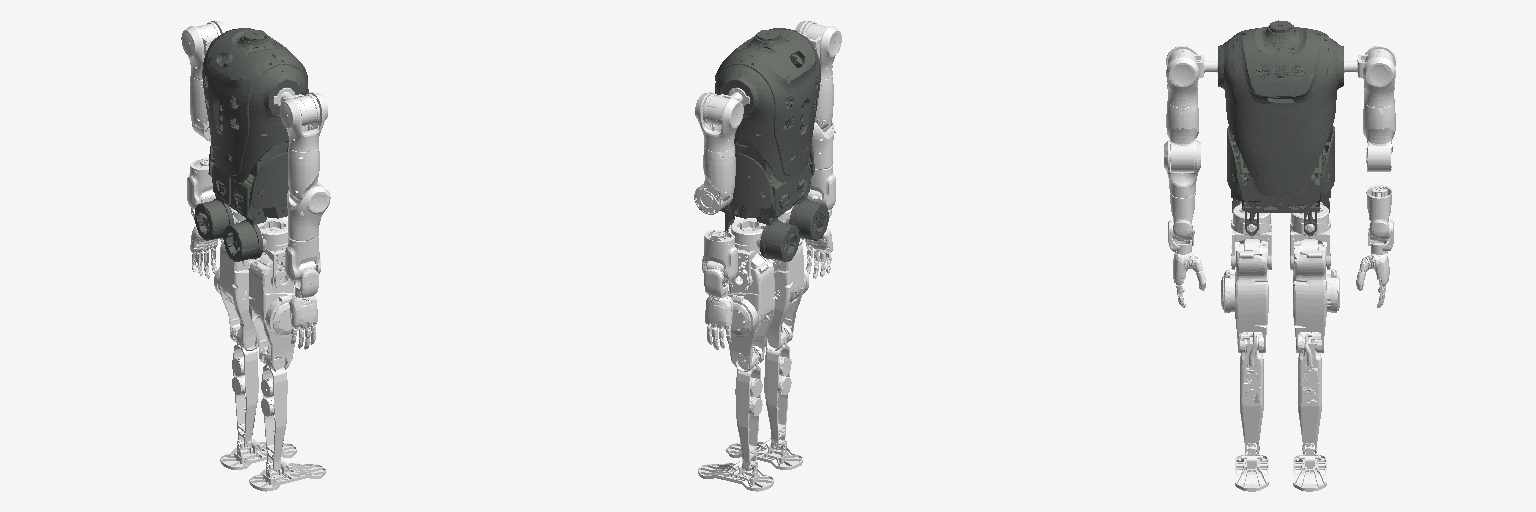
--- What the picture shows (computed from the rendered views, not written in the file) ---
Views: 3 orthographic renders of the robot side by side, from view 1: azimuth 30°, elevation 25°; view 2: azimuth 150°, elevation 25°; view 3: azimuth 270°, elevation 25°.
Model biped_v3_full with 27 links and 26 joints (26 revolute), rooted at torso, posed every joint at zero.
Visible links, largest first — view 1: torso, leg_r3_link, leg_l3_link, leg_l4_link, leg_r4_link, zarm_r7_link, zarm_r4_link, zarm_r2_link, zarm_r3_link, leg_r6_link, leg_l6_link, zarm_r5_link (+7 smaller); view 2: torso, leg_l3_link, leg_r3_link, leg_r4_link, leg_l4_link, zarm_l3_link, zarm_l7_link, zarm_l2_link, leg_l6_link, zarm_l5_link, leg_r6_link, zarm_r2_link (+7 smaller); view 3: torso, leg_l3_link, leg_r3_link, leg_l4_link, leg_r4_link, zarm_l3_link, zarm_r3_link, zarm_l2_link, zarm_r2_link, zarm_r7_link, zarm_l7_link, leg_l6_link (+7 smaller).
Boxes of the visible links, <box> form: torso: <box>194,28,308,261</box>; leg_r3_link: <box>249,253,298,372</box>; leg_l3_link: <box>214,239,258,350</box>; leg_l4_link: <box>232,327,258,449</box>; leg_r4_link: <box>261,346,287,470</box>; zarm_r7_link: <box>289,269,318,349</box>; zarm_r4_link: <box>287,186,330,240</box>; zarm_r2_link: <box>280,92,327,151</box>; zarm_r3_link: <box>288,147,323,204</box>; leg_r6_link: <box>249,459,325,491</box>; leg_l6_link: <box>220,438,296,469</box>; zarm_r5_link: <box>285,236,320,280</box>; torso: <box>715,28,828,261</box>; leg_l3_link: <box>724,253,774,371</box>; leg_r3_link: <box>765,239,808,350</box>; leg_r4_link: <box>764,325,791,449</box>; leg_l4_link: <box>735,346,762,470</box>; zarm_l3_link: <box>694,146,735,214</box>; zarm_l7_link: <box>704,269,733,349</box>; zarm_l2_link: <box>695,92,743,151</box>; leg_l6_link: <box>698,459,773,491</box>; zarm_l5_link: <box>702,230,737,280</box>; leg_r6_link: <box>726,438,802,469</box>; zarm_r2_link: <box>795,21,841,79</box>; torso: <box>1218,20,1343,236</box>; leg_l3_link: <box>1293,239,1339,352</box>; leg_r3_link: <box>1221,239,1268,352</box>; leg_l4_link: <box>1298,332,1321,453</box>; leg_r4_link: <box>1240,332,1263,453</box>; zarm_l3_link: <box>1363,102,1395,171</box>; zarm_r3_link: <box>1166,102,1198,171</box>; zarm_l2_link: <box>1363,46,1395,107</box>; zarm_r2_link: <box>1166,46,1198,107</box>; zarm_r7_link: <box>1168,220,1205,307</box>; zarm_l7_link: <box>1356,220,1393,307</box>; leg_l6_link: <box>1293,443,1326,491</box>.
Size in the robot's own frame: 0.3146 by 0.6896 by 1.44 metres.
Meshes: 27 distinct files referenced, 26 mesh visuals loaded (26 binary STL); not drawn: 1 (reference not matched to a file when rendering).

robot.urdf — biped_v3_full:
<?xml version="1.0" ?>
<!-- =================================================================================== -->
<!-- |    This document was autogenerated by xacro from [local-path]/workspace/kuavo-ros-control/src/humanoid-control/humanoid_interface_drake/models/biped_gen4.2/urdf/biped_v3_full.xacro | -->
<!-- |    EDITING THIS FILE BY HAND IS NOT RECOMMENDED                                 | -->
<!-- =================================================================================== -->
<robot name="biped_v3_full" xmlns:drake="https://drake.mit.edu">
  <link name="torso">
    <inertial>
      <origin xyz="-0.0185005 0.00031952 0.1929569" rpy="0 0 0" />
      <mass value="26.93033803" />
      <inertia ixx="0.93103133" ixy="0.00011763" ixz="-0.07210993" iyy="0.82590532" iyz="6.88e-06" izz="0.27686612" />
    </inertial>
    <visual>
      <origin rpy="0 0 0" xyz="0 0 0"/>
      <geometry>
        <mesh filename="../../meshes/torso.STL"/>
      </geometry>
      <material name="">
        <color rgba="0.43137 0.45098 0.43137 1"/>
      </material>
    </visual>
    <!-- <collision>
      <origin xyz="0 0 0" rpy="0 0 0" />
      <geometry>
        <mesh filename="../../meshes/torso.STL" />
      </geometry>
    </collision> -->
  </link>
  <link name="leg_l1_link">
    <inertial>
      <origin xyz="-0.00430148 -2.708e-05 -0.00851195" rpy="0 0 0" />
      <mass value="1.71093115" />
      <inertia ixx="0.00206092" ixy="1.97e-06" ixz="6.944e-05" iyy="0.00277274" iyz="-5.1e-06" izz="0.00370826" />
    </inertial>
    <visual>
      <origin xyz="0 0 0" rpy="0 0 0" />
      <geometry>
        <mesh filename="../../meshes/l_leg_roll.STL" />
      </geometry>
      <material name="">
        <color rgba="1 1 1 1" />
      </material>
    </visual>
  </link>
  <joint name="leg_l1_joint" type="revolute">
    <origin xyz="-0.0024999 0.087 -0.066" rpy="0 0 0" />
    <parent link="torso" />
    <child link="leg_l1_link" />
    <axis xyz="1 0 0" />
    <limit lower="-0.314159265358979" upper="0.663225115757845" effort="180.0" velocity="23.55" />
  </joint>
  <transmission type="SimpleTransmission">
    <joint name="leg_l1_joint" />
    <actuator name="leg_l1_joint_motor" />
  </transmission>
  <link name="leg_l2_link">
    <inertial>
      <origin xyz="0.0 -0.00231118 -0.09062539" rpy="0 0 0" />
      <mass value="0.58029165" />
      <inertia ixx="0.00223984" ixy="0.0" ixz="3e-08" iyy="0.00123175" iyz="-6.98e-06" izz="0.00146391" />
    </inertial>
    <visual>
      <origin xyz="0 0 0" rpy="0 0 0" />
      <geometry>
        <mesh filename="../../meshes/l_leg_yaw.STL" />
      </geometry>
      <material name="">
        <color rgba="1 1 1 1" />
      </material>
    </visual>
  </link>
  <joint name="leg_l2_joint" type="revolute">
    <origin xyz="0 0 0" rpy="0 0 0" />
    <parent link="leg_l1_link" />
    <child link="leg_l2_link" />
    <axis xyz="0 0 1" />
    <limit lower="-0.872664625997165" upper="0.785398163397448" effort="100.0" velocity="41.3433333333333" />
  </joint>
  <transmission type="SimpleTransmission">
    <joint name="leg_l2_joint" />
    <actuator name="leg_l2_joint_motor" />
  </transmission>
  <link name="leg_l3_link">
    <inertial>
      <origin xyz="0.00150537 0.01199614 -0.08411619" rpy="0 0 0" />
      <mass value="4.50393141" />
      <inertia ixx="0.0389365" ixy="7.866e-05" ixz="0.00102086" iyy="0.03942609" iyz="0.00219138" izz="0.00999961" />
    </inertial>
    <visual>
      <origin xyz="0 0 0" rpy="0 0 0" />
      <geometry>
        <mesh filename="../../meshes/l_leg_pitch.STL" />
      </geometry>
      <material name="">
        <color rgba="1 1 1 1" />
      </material>
    </visual>
  </link>
  <joint name="leg_l3_joint" type="revolute">
    <origin xyz="0.000500354536093913 -0.00100000000000011 -0.1287" rpy="0 0 0" />
    <parent link="leg_l2_link" />
    <child link="leg_l3_link" />
    <axis xyz="0 1 0" />
    <limit lower="-2.00712863979348" upper="1.5707963267949" effort="100.0" velocity="41.3433333333333" />
  </joint>
  <transmission type="SimpleTransmission">
    <joint name="leg_l3_joint" />
    <actuator name="leg_l3_joint_motor" />
  </transmission>
  <link name="leg_l4_link">
    <inertial>
      <origin xyz="0.00696242 5.314e-05 -0.11549851" rpy="0 0 0" />
      <mass value="1.62776815" />
      <inertia ixx="0.01243912" ixy="-2.29e-06" ixz="5.881e-05" iyy="0.01229563" iyz="-2.895e-05" izz="0.00097937" />
    </inertial>
    <visual>
      <origin xyz="0 0 0" rpy="0 0 0" />
      <geometry>
        <mesh filename="../../meshes/l_knee.STL" />
      </geometry>
      <material name="">
        <color rgba="1 1 1 1" />
      </material>
    </visual>
  </link>
  <joint name="leg_l4_joint" type="revolute">
    <origin xyz="-6.87185435835039E-05 0 -0.284" rpy="0 0 0" />
    <parent link="leg_l3_link" />
    <child link="leg_l4_link" />
    <axis xyz="0 1 0" />
    <limit lower="0.0" upper="2.53072741539178" effort="180.0" velocity="23.55" />
  </joint>
  <transmission type="SimpleTransmission">
    <joint name="leg_l4_joint" />
    <actuator name="leg_l4_joint_motor" />
  </transmission>
  <link name="leg_l5_link">
    <inertial>
      <origin xyz="0.0 0.0 0.0" rpy="0 0 0" />
      <mass value="0.07193524" />
      <inertia ixx="6.92e-06" ixy="0.0" ixz="0.0" iyy="6.92e-06" iyz="0.0" izz="1.218e-05" />
    </inertial>
    <visual>
      <origin xyz="0 0 0" rpy="0 0 0" />
      <geometry>
        <mesh filename="../../meshes/l_foot_pitch.STL" />
      </geometry>
      <material name="">
        <color rgba="1 1 1 1" />
      </material>
    </visual>
  </link>
  <joint name="leg_l5_joint" type="revolute">
    <origin xyz="-0.000431635992531742 0 -0.346000000000001" rpy="0 0 0" />
    <parent link="leg_l4_link" />
    <child link="leg_l5_link" />
    <axis xyz="0 1 0" />
    <limit lower="-0.872664625997165" upper="0.349065850398866" effort="36.0" velocity="23.0266666666667" />
  </joint>
  <transmission type="SimpleTransmission">
    <joint name="leg_l5_joint" />
    <actuator name="leg_l5_joint_motor" />
  </transmission>
  <link name="leg_l6_link">
    <inertial>
      <origin xyz="0.03732754 -2.22e-06 -0.03883977" rpy="0 0 0" />
      <mass value="0.49861272" />
      <inertia ixx="0.00039242" ixy="3e-08" ixz="4.664e-05" iyy="0.00158655" iyz="0.0" izz="0.00172576" />
    </inertial>
    <visual>
      <origin xyz="0 0 0" rpy="0 0 0" />
      <geometry>
        <mesh filename="../../meshes/l_foot_roll.STL" />
      </geometry>
      <material name="">
        <color rgba="1 1 1 1" />
      </material>
    </visual>
  </link>
  <joint name="leg_l6_joint" type="revolute">
    <origin xyz="0 0 0" rpy="0 0 0" />
    <parent link="leg_l5_link" />
    <child link="leg_l6_link" />
    <axis xyz="1 0 0" />
    <limit lower="-0.261799387799149" upper="0.261799387799149" effort="36.0" velocity="23.0266666666667" />
  </joint>
  <transmission type="SimpleTransmission">
    <joint name="leg_l6_joint" />
    <actuator name="leg_l6_joint_motor" />
  </transmission>
  <!-- sssssssss -->
  <frame link="leg_l6_link" name="l_foot_sole" xyz="0.048838 0.0 -0.0593"/>
  <frame link="leg_l6_link" name="l_foot_toe" xyz="0.17084 0.0 -0.0593"/>
  <frame link="leg_l6_link" name="l_foot_heel" xyz="-0.073164 0.0 -0.0593"/>
  <link name="leg_r1_link">
    <inertial>
      <origin xyz="-0.00430146 2.709e-05 -0.00851195" rpy="0 0 0" />
      <mass value="1.71093008" />
      <inertia ixx="0.00206092" ixy="-1.97e-06" ixz="6.944e-05" iyy="0.00277274" iyz="5.1e-06" izz="0.00370826" />
    </inertial>
    <visual>
      <origin xyz="0 0 0" rpy="0 0 0" />
      <geometry>
        <mesh filename="../../meshes/r_leg_roll.STL" />
      </geometry>
      <material name="">
        <color rgba="1 1 1 1" />
      </material>
    </visual>
  </link>
  <joint name="leg_r1_joint" type="revolute">
    <origin xyz="-0.0024999 -0.087 -0.066" rpy="0 0 0" />
    <parent link="torso" />
    <child link="leg_r1_link" />
    <axis xyz="1 0 0" />
    <limit lower="-0.663225115757845" upper="0.314159265358979" effort="180.0" velocity="23.55" />
  </joint>
  <transmission type="SimpleTransmission">
    <joint name="leg_r1_joint" />
    <actuator name="leg_r1_joint_motor" />
  </transmission>
  <link name="leg_r2_link">
    <inertial>
      <origin xyz="0.0 0.00231118 -0.09062539" rpy="0 0 0" />
      <mass value="0.58029165" />
      <inertia ixx="0.00223984" ixy="0.0" ixz="-3e-08" iyy="0.00123175" iyz="6.98e-06" izz="0.00146391" />
    </inertial>
    <visual>
      <origin xyz="0 0 0" rpy="0 0 0" />
      <geometry>
        <mesh filename="../../meshes/r_leg_yaw.STL" />
      </geometry>
      <material name="">
        <color rgba="1 1 1 1" />
      </material>
    </visual>
  </link>
  <joint name="leg_r2_joint" type="revolute">
    <origin xyz="0 0 0" rpy="0 0 0" />
    <parent link="leg_r1_link" />
    <child link="leg_r2_link" />
    <axis xyz="0 0 1" />
    <limit lower="-0.785398163397448" upper="0.872664625997165" effort="100.0" velocity="41.3433333333333" />
  </joint>
  <transmission type="SimpleTransmission">
    <joint name="leg_r2_joint" />
    <actuator name="leg_r2_joint_motor" />
  </transmission>
  <link name="leg_r3_link">
    <inertial>
      <origin xyz="0.00208315 -0.01199644 -0.08411379" rpy="0 0 0" />
      <mass value="4.50385993" />
      <inertia ixx="0.03893478" ixy="-7.792e-05" ixz="0.00103064" iyy="0.03942522" iyz="-0.00219154" izz="0.01000016" />
    </inertial>
    <visual>
      <origin xyz="0 0 0" rpy="0 0 0" />
      <geometry>
        <mesh filename="../../meshes/r_leg_pitch.STL" />
      </geometry>
      <material name="">
        <color rgba="1 1 1 1" />
      </material>
    </visual>
  </link>
  <joint name="leg_r3_joint" type="revolute">
    <origin xyz="-4.88006581312577E-05 0 -0.1287" rpy="0 0 0" />
    <parent link="leg_r2_link" />
    <child link="leg_r3_link" />
    <axis xyz="0 1 0" />
    <limit lower="-2.00712863979348" upper="1.5707963267949" effort="100.0" velocity="41.3433333333333" />
  </joint>
  <transmission type="SimpleTransmission">
    <joint name="leg_r3_joint" />
    <actuator name="leg_r3_joint_motor" />
  </transmission>
  <link name="leg_r4_link">
    <inertial>
      <origin xyz="0.00743231 -5.343e-05 -0.11558701" rpy="0 0 0" />
      <mass value="1.62655699" />
      <inertia ixx="0.01241258" ixy="2.28e-06" ixz="6.289e-05" iyy="0.0122692" iyz="2.902e-05" izz="0.00097927" />
    </inertial>
    <visual>
      <origin xyz="0 0 0" rpy="0 0 0" />
      <geometry>
        <mesh filename="../../meshes/r_knee.STL" />
      </geometry>
      <material name="">
        <color rgba="1 1 1 1" />
      </material>
    </visual>
  </link>
  <joint name="leg_r4_joint" type="revolute">
    <origin xyz="0.000147138572785148 0 -0.283999982974744" rpy="0 0 0" />
    <parent link="leg_r3_link" />
    <child link="leg_r4_link" />
    <axis xyz="0 1 0" />
    <limit lower="0.0" upper="2.53072741539178" effort="180.0" velocity="23.55" />
  </joint>
  <transmission type="SimpleTransmission">
    <joint name="leg_r4_joint" />
    <actuator name="leg_r4_joint_motor" />
  </transmission>
  <link name="leg_r5_link">
    <inertial>
      <origin xyz="0.0 0.0 0.0" rpy="0 0 0" />
      <mass value="0.07193524" />
      <inertia ixx="6.92e-06" ixy="0.0" ixz="0.0" iyy="6.92e-06" iyz="0.0" izz="1.218e-05" />
    </inertial>
    <visual>
      <origin xyz="0 0 0" rpy="0 0 0" />
      <geometry>
        <mesh filename="../../meshes/r_foot_pitch.STL" />
      </geometry>
      <material name="">
        <color rgba="1 1 1 1" />
      </material>
    </visual>
  </link>
  <joint name="leg_r5_joint" type="revolute">
    <origin xyz="0.000119806050928577 0 -0.345999979257963" rpy="0 0 0" />
    <parent link="leg_r4_link" />
    <child link="leg_r5_link" />
    <axis xyz="0 1 0" />
    <limit lower="-0.872664625997165" upper="0.349065850398866" effort="36.0" velocity="23.0266666666667" />
  </joint>
  <transmission type="SimpleTransmission">
    <joint name="leg_r5_joint" />
    <actuator name="leg_r5_joint_motor" />
  </transmission>
  <link name="leg_r6_link">
    <inertial>
      <origin xyz="0.03734098 -2.22e-06 -0.03882684" rpy="0 0 0" />
      <mass value="0.49861272" />
      <inertia ixx="0.00039238" ixy="3e-08" ixz="4.618e-05" iyy="0.00158655" iyz="0.0" izz="0.00172579" />
    </inertial>
    <visual>
      <origin xyz="0 0 0" rpy="0 0 0" />
      <geometry>
        <mesh filename="../../meshes/r_foot_roll.STL" />
      </geometry>
      <material name="">
        <color rgba="1 1 1 1" />
      </material>
    </visual>
  </link>
  <joint name="leg_r6_joint" type="revolute">
    <origin xyz="0 0 0" rpy="0 0 0" />
    <parent link="leg_r5_link" />
    <child link="leg_r6_link" />
    <axis xyz="1 0 0" />
    <limit lower="-0.261799387799149" upper="0.261799387799149" effort="36.0" velocity="23.0266666666667" />
  </joint>
  <transmission type="SimpleTransmission">
    <joint name="leg_r6_joint" />
    <actuator name="leg_r6_joint_motor" />
  </transmission>
  <!-- sssssssss -->
  <frame link="leg_r6_link" name="r_foot_sole" xyz="0.048838 0.0 -0.0593"/>
  <frame link="leg_r6_link" name="r_foot_toe" xyz="0.17084 0.0 -0.0593"/>
  <frame link="leg_r6_link" name="r_foot_heel" xyz="-0.073164 0.0 -0.0593"/>
  <!-- =========================================================== Arms ================================================================= -->
  <link name="zarm_l1_link">
    <inertial>
      <origin xyz="-0.00083 -0.02218 0.00035" rpy="0 0 0" />
      <mass value="0.962" />
      <inertia ixx="0.00225" ixy="-3e-05" ixz="0.0" iyy="0.00099" iyz="-2e-05" izz="0.00227" />
    </inertial>
    <visual>
      <origin xyz="0 0 0" rpy="0 0 0" />
      <geometry>
        <mesh filename="../../meshes/l_arm_pitch.STL" />
      </geometry>
      <material name="">
        <color rgba="1 1 1 1" />
      </material>
    </visual>
  </link>
  <joint name="zarm_l1_joint" type="revolute">
    <origin xyz="-0.017499853 0.29269999999999996 0.4245" rpy="0 0 0" />
    <parent link="torso" />
    <child link="zarm_l1_link" />
    <axis xyz="0 1 0" />
    <limit lower="-3.14159265358979" upper="1.5707963267949" effort="100.0" velocity="41.3433333333333" />
  </joint>
  <transmission type="SimpleTransmission">
    <joint name="zarm_l1_joint" />
    <actuator name="zarm_l1_joint_motor" />
  </transmission>
  <link name="zarm_l2_link">
    <inertial>
      <origin xyz="-0.00791 0.0 -0.04655" rpy="0 0 0" />
      <mass value="0.57" />
      <inertia ixx="0.00163" ixy="0.0" ixz="5e-05" iyy="0.00211" iyz="0.0" izz="0.00122" />
    </inertial>
    <visual>
      <origin xyz="0 0 0" rpy="0 0 0" />
      <geometry>
        <mesh filename="../../meshes/l_arm_roll.STL" />
      </geometry>
      <material name="">
        <color rgba="1 1 1 1" />
      </material>
    </visual>
  </link>
  <joint name="zarm_l2_joint" type="revolute">
    <origin xyz="0 0 0" rpy="0 0 0" />
    <parent link="zarm_l1_link" />
    <child link="zarm_l2_link" />
    <axis xyz="1 0 0" />
    <limit lower="-0.349065850398866" upper="2.0943951023932" effort="50.0" velocity="19.154" />
  </joint>
  <transmission type="SimpleTransmission">
    <joint name="zarm_l2_joint" />
    <actuator name="zarm_l2_joint_motor" />
  </transmission>
  <link name="zarm_l3_link">
    <inertial>
      <origin xyz="0.00628 0.00107 -0.20878" rpy="0 0 0" />
      <mass value="1.65" />
      <inertia ixx="0.00815" ixy="-4e-05" ixz="0.00085" iyy="0.00828" iyz="0.00014" izz="0.00206" />
    </inertial>
    <visual>
      <origin xyz="0 0 0" rpy="0 0 0" />
      <geometry>
        <mesh filename="../../meshes/l_arm_yaw.STL" />
      </geometry>
      <material name="">
        <color rgba="1 1 1 1" />
      </material>
    </visual>
  </link>
  <joint name="zarm_l3_joint" type="revolute">
    <origin xyz="0 0 0" rpy="0 0 0" />
    <parent link="zarm_l2_link" />
    <child link="zarm_l3_link" />
    <axis xyz="0 0 1" />
    <limit lower="-1.5707963267949" upper="1.5707963267949" effort="39.0" velocity="18.84" />
  </joint>
  <transmission type="SimpleTransmission">
    <joint name="zarm_l3_joint" />
    <actuator name="zarm_l3_joint_motor" />
  </transmission>
  <link name="zarm_l4_link">
    <inertial>
      <origin xyz="-0.01611 0.00143 -0.04857" rpy="0 0 0" />
      <mass value="0.429" />
      <inertia ixx="0.00135" ixy="0.0" ixz="-0.0001" iyy="0.00114" iyz="0.0" izz="0.00083" />
    </inertial>
    <visual>
      <origin xyz="0 0 0" rpy="0 0 0" />
      <geometry>
        <mesh filename="../../meshes/l_forearm.STL" />
      </geometry>
      <material name="">
        <color rgba="1 1 1 1" />
      </material>
    </visual>
  </link>
  <joint name="zarm_l4_joint" type="revolute">
    <origin xyz="0.0200000000000006 0 -0.283699999999996" rpy="0 0 0" />
    <parent link="zarm_l3_link" />
    <child link="zarm_l4_link" />
    <axis xyz="0 1 0" />
    <limit lower="-2.61799387799149" upper="0.0" effort="50.0" velocity="18.84" />
  </joint>
  <transmission type="SimpleTransmission">
    <joint name="zarm_l4_joint" />
    <actuator name="zarm_l4_joint_motor" />
  </transmission>
  <link name="zarm_l5_link">
    <inertial>
      <origin xyz="-0.00207 0.00018 -0.05079" rpy="0 0 0" />
      <mass value="0.61" />
      <inertia ixx="0.00107" ixy="0.0" ixz="-4e-05" iyy="0.00146" iyz="0.0" izz="0.00083" />
    </inertial>
    <visual>
      <origin xyz="0 0 0" rpy="0 0 0" />
      <geometry>
        <mesh filename="../../meshes/l_hand_yaw.STL" />
      </geometry>
      <material name="">
        <color rgba="1 1 1 1" />
      </material>
    </visual>
  </link>
  <joint name="zarm_l5_joint" type="revolute">
    <origin xyz="-0.0200000000000025 0 -0.127037274261591" rpy="0 0 0" />
    <parent link="zarm_l4_link" />
    <child link="zarm_l5_link" />
    <axis xyz="0 0 1" />
    <limit lower="-1.5707963267949" upper="1.5707963267949" effort="12.0" velocity="21.666" />
  </joint>
  <transmission type="SimpleTransmission">
    <joint name="zarm_l5_joint" />
    <actuator name="zarm_l5_joint_motor" />
  </transmission>
  <link name="zarm_l6_link">
    <inertial>
      <origin xyz="-0.00111 0.00335 -0.01335" rpy="0 0 0" />
      <mass value="0.331" />
      <inertia ixx="0.00022" ixy="0.0" ixz="0.0" iyy="0.00027" iyz="0.0" izz="0.00028" />
    </inertial>
    <visual>
      <origin xyz="0 0 0" rpy="0 0 0" />
      <geometry>
        <mesh filename="../../meshes/l_hand_roll.STL" />
      </geometry>
      <material name="">
        <color rgba="1 1 1 1" />
      </material>
    </visual>
  </link>
  <joint name="zarm_l6_joint" type="revolute">
    <origin xyz="0.000199999999999079 0 -0.106462725738415" rpy="0 0 0" />
    <parent link="zarm_l5_link" />
    <child link="zarm_l6_link" />
    <axis xyz="1 0 0" />
    <limit lower="-1.30899693899575" upper="0.698131700797732" effort="12.0" velocity="21.666" />
  </joint>
  <transmission type="SimpleTransmission">
    <joint name="zarm_l6_joint" />
    <actuator name="zarm_l6_joint_motor" />
  </transmission>
  <link name="zarm_l7_link">
    <inertial>
      <origin xyz="0.00186 0.01014 -0.09044" rpy="0 0 0" />
      <mass value="0.64" />
      <inertia ixx="0.00071" ixy="1e-05" ixz="2e-05" iyy="0.0007" iyz="-4e-05" izz="0.00012" />
    </inertial>
    <visual>
      <origin xyz="0 0 0" rpy="0 0 0" />
      <geometry>
        <mesh filename="../../meshes/l_hand_pitch.STL" />
      </geometry>
      <material name="">
        <color rgba="1 1 1 1" />
      </material>
    </visual>
  </link>
  <joint name="zarm_l7_joint" type="revolute">
    <origin xyz="0 0 -0.0210004653879916" rpy="0 0 0" />
    <parent link="zarm_l6_link" />
    <child link="zarm_l7_link" />
    <axis xyz="0 1 0" />
    <limit lower="-0.698131700797732" upper="0.698131700797732" effort="12.0" velocity="21.666" />
  </joint>
  <transmission type="SimpleTransmission">
    <joint name="zarm_l7_joint" />
    <actuator name="zarm_l7_joint_motor" />
  </transmission>
  <!-- right arm -->
  <link name="zarm_r1_link">
    <inertial>
      <origin xyz="-0.00083 0.02218 0.00035" rpy="0 0 0" />
      <mass value="0.962" />
      <inertia ixx="0.00225" ixy="3e-05" ixz="0.0" iyy="0.00099" iyz="2e-05" izz="0.00227" />
    </inertial>
    <visual>
      <origin xyz="0 0 0" rpy="0 0 0" />
      <geometry>
        <mesh filename="../../meshes/r_arm_pitch.STL" />
      </geometry>
      <material name="">
        <color rgba="1 1 1 1" />
      </material>
    </visual>
  </link>
  <joint name="zarm_r1_joint" type="revolute">
    <origin xyz="-0.017499853 -0.29269999999999996 0.4245" rpy="0 0 0" />
    <parent link="torso" />
    <child link="zarm_r1_link" />
    <axis xyz="0 1 0" />
    <limit lower="-3.14159265358979" upper="1.5707963267949" effort="100.0" velocity="41.3433333333333" />
  </joint>
  <transmission type="SimpleTransmission">
    <joint name="zarm_r1_joint" />
    <actuator name="zarm_r1_joint_motor" />
  </transmission>
  <link name="zarm_r2_link">
    <inertial>
      <origin xyz="-0.00791 0.0 -0.04655" rpy="0 0 0" />
      <mass value="0.57" />
      <inertia ixx="0.00163" ixy="0.0" ixz="5e-05" iyy="0.00211" iyz="0.0" izz="0.00122" />
    </inertial>
    <visual>
      <origin xyz="0 0 0" rpy="0 0 0" />
      <geometry>
        <mesh filename="../../meshes/r_arm_roll.STL" />
      </geometry>
      <material name="">
        <color rgba="1 1 1 1" />
      </material>
    </visual>
  </link>
  <joint name="zarm_r2_joint" type="revolute">
    <origin xyz="0 0 0" rpy="0 0 0" />
    <parent link="zarm_r1_link" />
    <child link="zarm_r2_link" />
    <axis xyz="1 0 0" />
    <limit lower="-2.0943951023932" upper="0.349065850398866" effort="50.0" velocity="19.154" />
  </joint>
  <transmission type="SimpleTransmission">
    <joint name="zarm_r2_joint" />
    <actuator name="zarm_r2_joint_motor" />
  </transmission>
  <link name="zarm_r3_link">
    <inertial>
      <origin xyz="0.00628 -0.00107 -0.20878" rpy="0 0 0" />
      <mass value="1.65" />
      <inertia ixx="0.00815" ixy="4e-05" ixz="0.00085" iyy="0.00828" iyz="-0.00014" izz="0.00206" />
    </inertial>
    <visual>
      <origin xyz="0 0 0" rpy="0 0 0" />
      <geometry>
        <mesh filename="../../meshes/r_arm_yaw.STL" />
      </geometry>
      <material name="">
        <color rgba="1 1 1 1" />
      </material>
    </visual>
  </link>
  <joint name="zarm_r3_joint" type="revolute">
    <origin xyz="0 0 0" rpy="0 0 0" />
    <parent link="zarm_r2_link" />
    <child link="zarm_r3_link" />
    <axis xyz="0 0 1" />
    <limit lower="-1.5707963267949" upper="1.5707963267949" effort="39.0" velocity="18.84" />
  </joint>
  <transmission type="SimpleTransmission">
    <joint name="zarm_r3_joint" />
    <actuator name="zarm_r3_joint_motor" />
  </transmission>
  <link name="zarm_r4_link">
    <inertial>
      <origin xyz="-0.01611 -0.00143 -0.04857" rpy="0 0 0" />
      <mass value="0.429" />
      <inertia ixx="0.00135" ixy="0.0" ixz="-0.0001" iyy="0.00114" iyz="0.0" izz="0.00083" />
    </inertial>
    <visual>
      <origin xyz="0 0 0" rpy="0 0 0" />
      <geometry>
        <mesh filename="../../meshes/r_forearm.STL" />
      </geometry>
      <material name="">
        <color rgba="1 1 1 1" />
      </material>
    </visual>
  </link>
  <joint name="zarm_r4_joint" type="revolute">
    <origin xyz="0.0200000000000024 0 -0.2837" rpy="0 0 0" />
    <parent link="zarm_r3_link" />
    <child link="zarm_r4_link" />
    <axis xyz="0 1 0" />
    <limit lower="-2.61799387799149" upper="0.0" effort="50.0" velocity="18.84" />
  </joint>
  <transmission type="SimpleTransmission">
    <joint name="zarm_r4_joint" />
    <actuator name="zarm_r4_joint_motor" />
  </transmission>
  <link name="zarm_r5_link">
    <inertial>
      <origin xyz="-0.00207 -0.00018 -0.05079" rpy="0 0 0" />
      <mass value="0.61" />
      <inertia ixx="0.00107" ixy="0.0" ixz="-4e-05" iyy="0.00146" iyz="0.0" izz="0.00083" />
    </inertial>
    <visual>
      <origin xyz="0 0 0" rpy="0 0 0" />
      <geometry>
        <mesh filename="../../meshes/r_hand_yaw.STL" />
      </geometry>
      <material name="">
        <color rgba="1 1 1 1" />
      </material>
    </visual>
  </link>
  <joint name="zarm_r5_joint" type="revolute">
    <origin xyz="-0.0200000000000001 0 -0.127037274261587" rpy="0 0 0" />
    <parent link="zarm_r4_link" />
    <child link="zarm_r5_link" />
    <axis xyz="0 0 1" />
    <limit lower="-1.5707963267949" upper="1.5707963267949" effort="12.0" velocity="21.666" />
  </joint>
  <transmission type="SimpleTransmission">
    <joint name="zarm_r5_joint" />
    <actuator name="zarm_r5_joint_motor" />
  </transmission>
  <link name="zarm_r6_link">
    <inertial>
      <origin xyz="-0.00111 -0.00335 -0.01335" rpy="0 0 0" />
      <mass value="0.331" />
      <inertia ixx="0.00022" ixy="0.0" ixz="0.0" iyy="0.00027" iyz="0.0" izz="0.00028" />
    </inertial>
    <visual>
      <origin xyz="0 0 0" rpy="0 0 0" />
      <geometry>
        <mesh filename="../../meshes/r_hand_roll.STL" />
      </geometry>
      <material name="">
        <color rgba="1 1 1 1" />
      </material>
    </visual>
  </link>
  <joint name="zarm_r6_joint" type="revolute">
    <origin xyz="0 0 -0.106462725738415" rpy="0 0 0" />
    <parent link="zarm_r5_link" />
    <child link="zarm_r6_link" />
    <axis xyz="1 0 0" />
    <limit lower="-0.698131700797732" upper="1.30899693899575" effort="12.0" velocity="21.666" />
  </joint>
  <transmission type="SimpleTransmission">
    <joint name="zarm_r6_joint" />
    <actuator name="zarm_r6_joint_motor" />
  </transmission>
  <link name="zarm_r7_link">
    <inertial>
      <origin xyz="0.00186 -0.01014 -0.09044" rpy="0 0 0" />
      <mass value="0.64" />
      <inertia ixx="0.00069" ixy="-1e-05" ixz="2e-05" iyy="0.00068" iyz="5e-05" izz="0.00012" />
    </inertial>
    <visual>
      <origin xyz="0 0 0" rpy="0 0 0" />
      <geometry>
        <mesh filename="../../meshes/r_hand_pitch.STL" />
      </geometry>
      <material name="">
        <color rgba="1 1 1 1" />
      </material>
    </visual>
  </link>
  <joint name="zarm_r7_joint" type="revolute">
    <origin xyz="0 0 -0.0209999999999999" rpy="0 0 0" />
    <parent link="zarm_r6_link" />
    <child link="zarm_r7_link" />
    <axis xyz="0 1 0" />
    <limit lower="-0.698131700797732" upper="0.698131700797732" effort="12.0" velocity="21.666" />
  </joint>
  <transmission type="SimpleTransmission">
    <joint name="zarm_r7_joint" />
    <actuator name="zarm_r7_joint_motor" />
  </transmission>
  <!-- end frame -->
  <!-- <frame link="l_hand_pitch" name="l_hand_sole" xyz="0 0 -0.1" /> -->
  <!-- end frame -->
  <!-- <frame link="r_hand_pitch" name="r_hand_sole" xyz="0 0 -0.1" /> -->
</robot>
